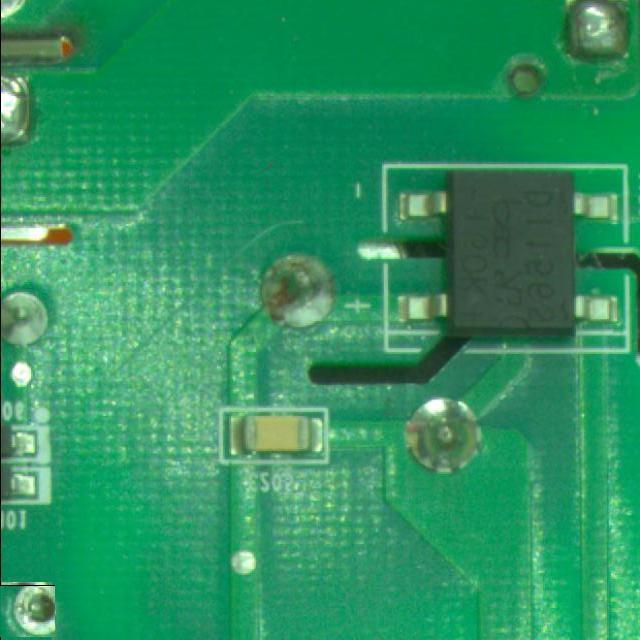lack_of_part: (0, 583, 53, 638)
